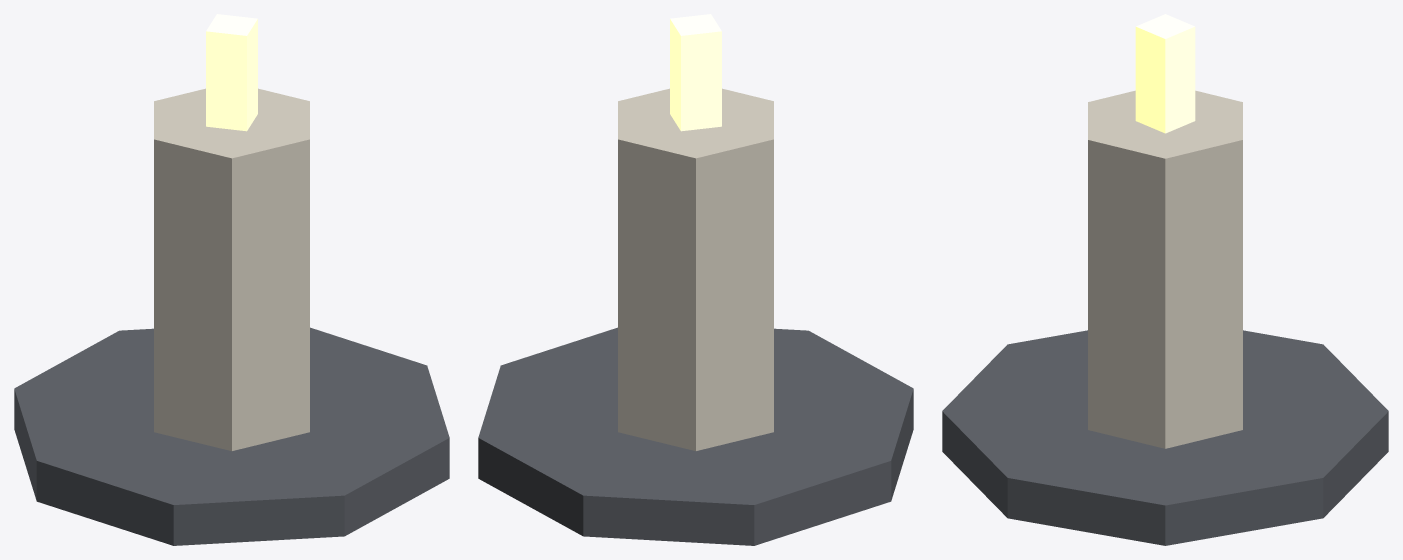
Rendered from haunted_candledish.glb.
The picture shows the model from 3 angles, left to right: view 1: azimuth 30°, elevation 25°; view 2: azimuth 150°, elevation 25°; view 3: azimuth 270°, elevation 25°; orthographic projection.
Parts seen in each view (by area): view 1: Haunted_CandleDish; view 2: Haunted_CandleDish; view 3: Haunted_CandleDish.
Part boxes in pixels (x1,y1,x2,y2): Haunted_CandleDish: (14,14,449,545); Haunted_CandleDish: (478,14,913,545); Haunted_CandleDish: (942,14,1388,545).
Size of the model in its own units: 0.3 by 0.315 by 0.3.
